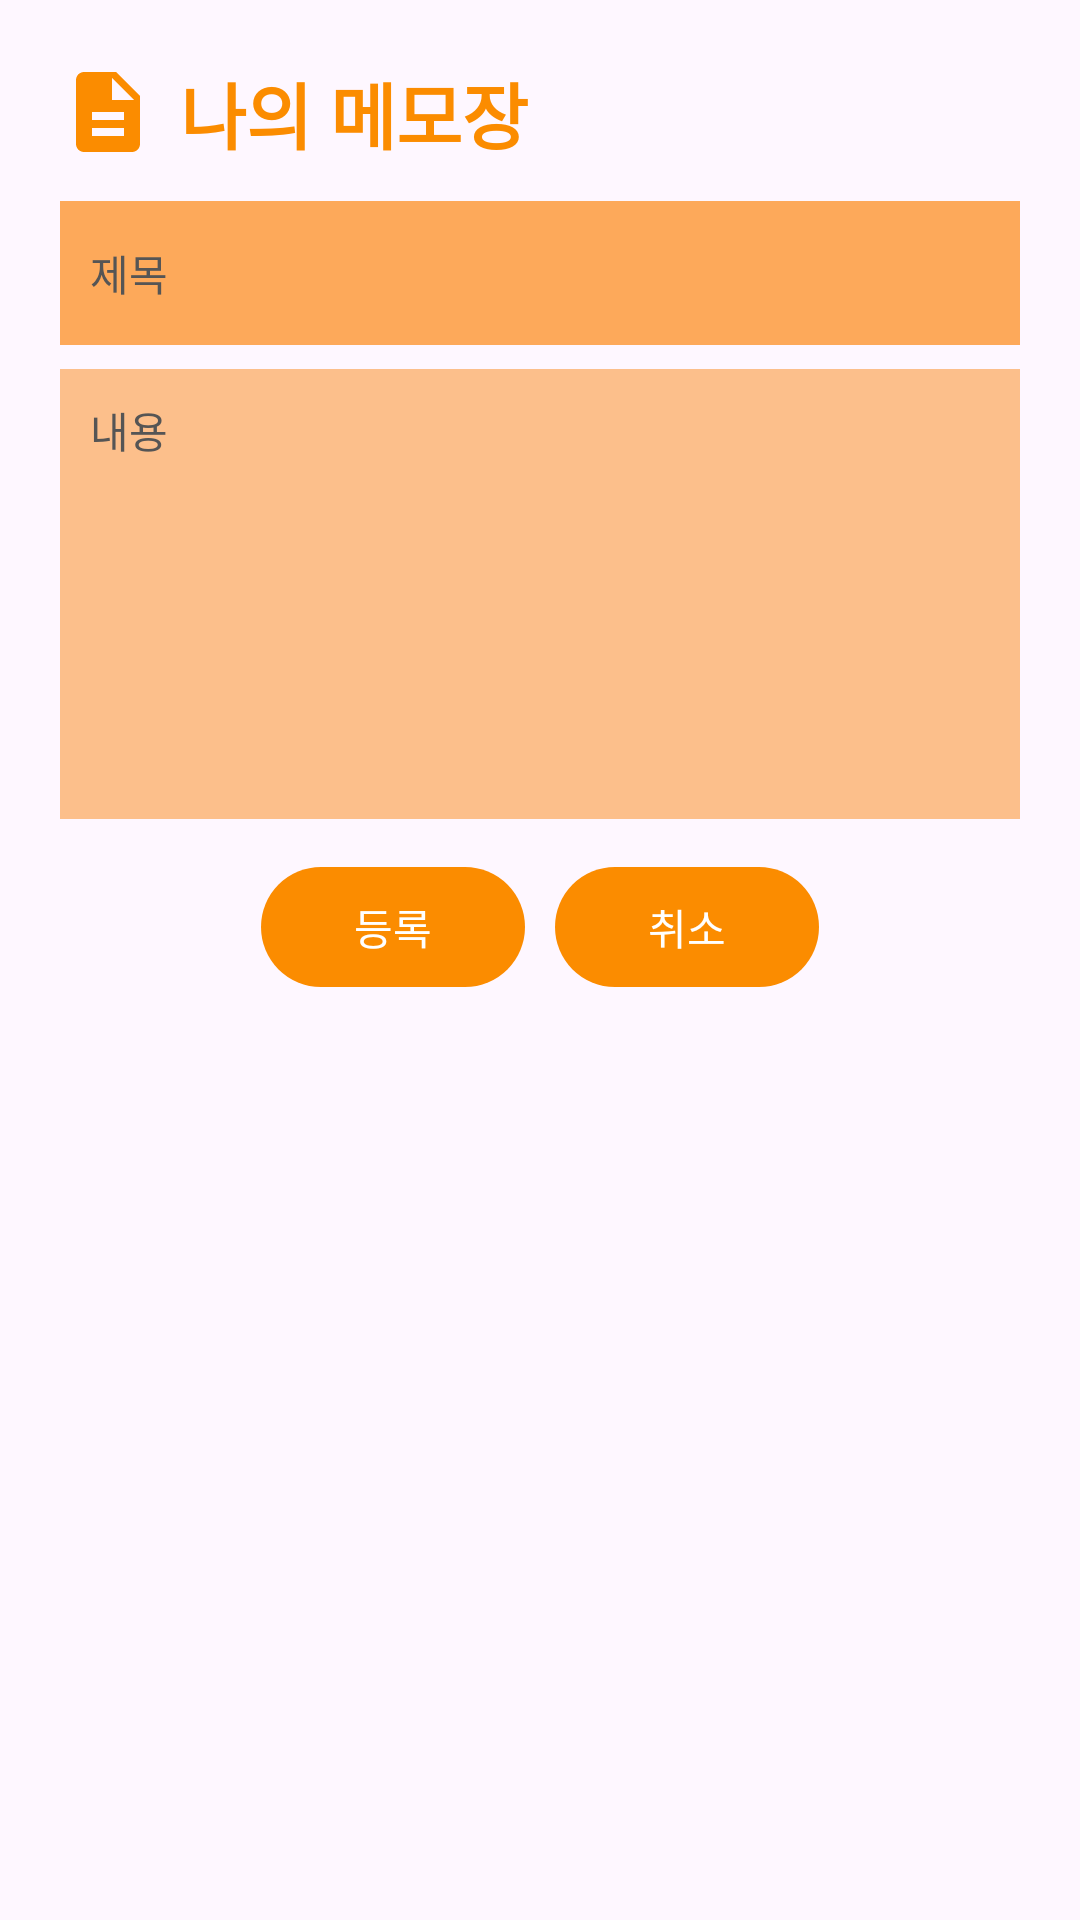

Named icons in this screenshot (1080px x 1920px) and their bounding boxes, Rect(x1, y1, x2, y2):
memo: Rect(76, 72, 140, 152)
